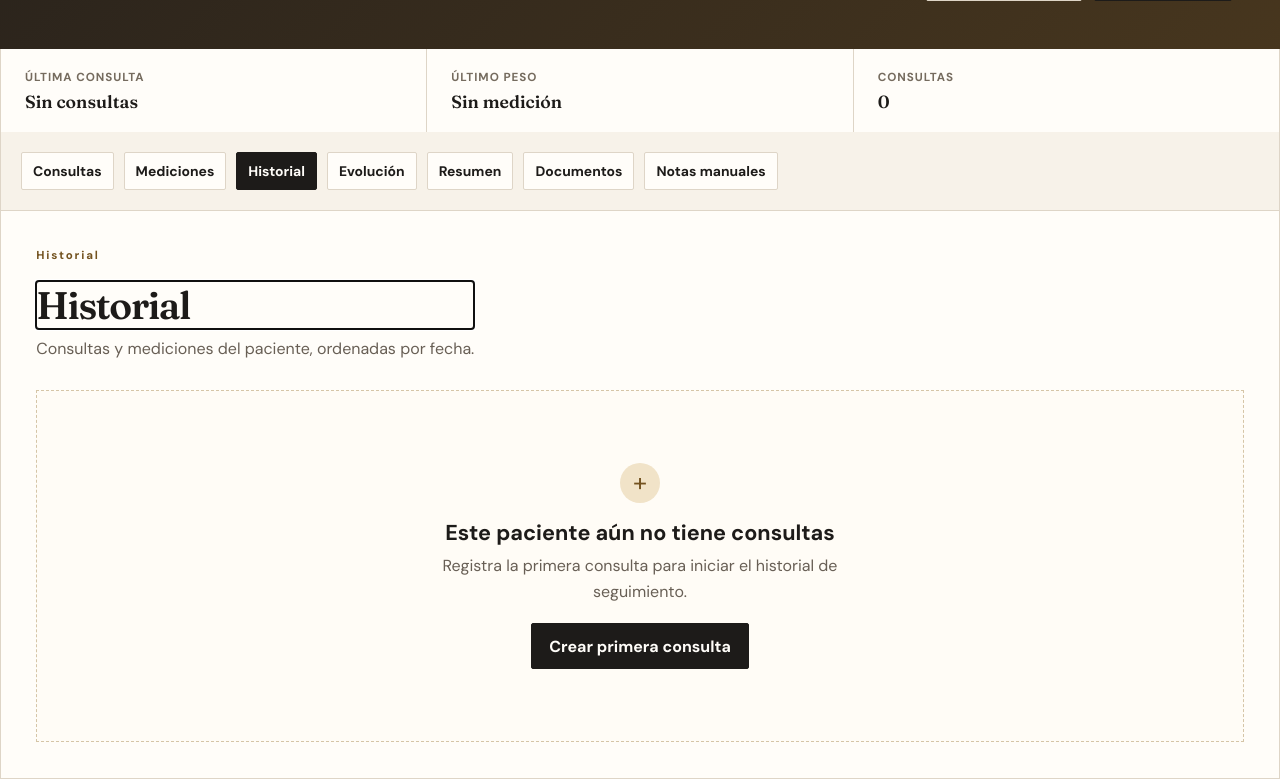
Test: seguimiento conectado a API › muestra un vacío comprensible y permite crear la primera consulta
(page scrolled)
Expected: the heading "Este paciente aún no tiene consultas" is shown, [445,519,835,547]
What coordinates should you click on to do the following:
click the button "Crear primera consulta"
I would click on:
 (640, 646)
Its box is [531,624,749,670].
(page scrolled)
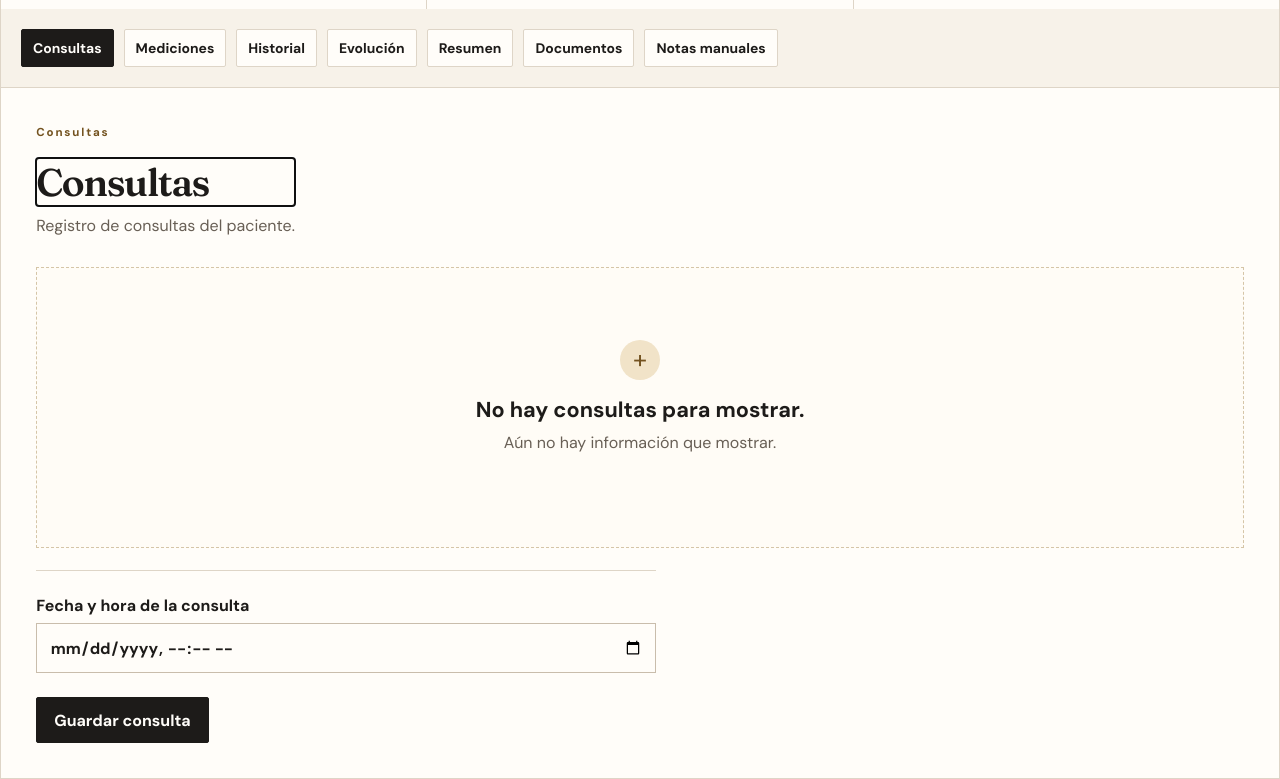
Expected: the heading "Consultas" is shown, [36,158,209,206]
Expected: the field labelled "Fecha y hora de la consulta" is shown, [36,623,656,673]
